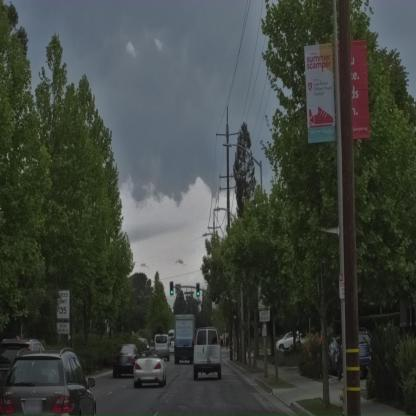bus: (193, 328, 222, 381)
car: (0, 348, 99, 416), (0, 339, 44, 388), (132, 357, 168, 389), (112, 344, 140, 378), (277, 332, 304, 354), (153, 332, 169, 359)
truck: (173, 314, 196, 364)
